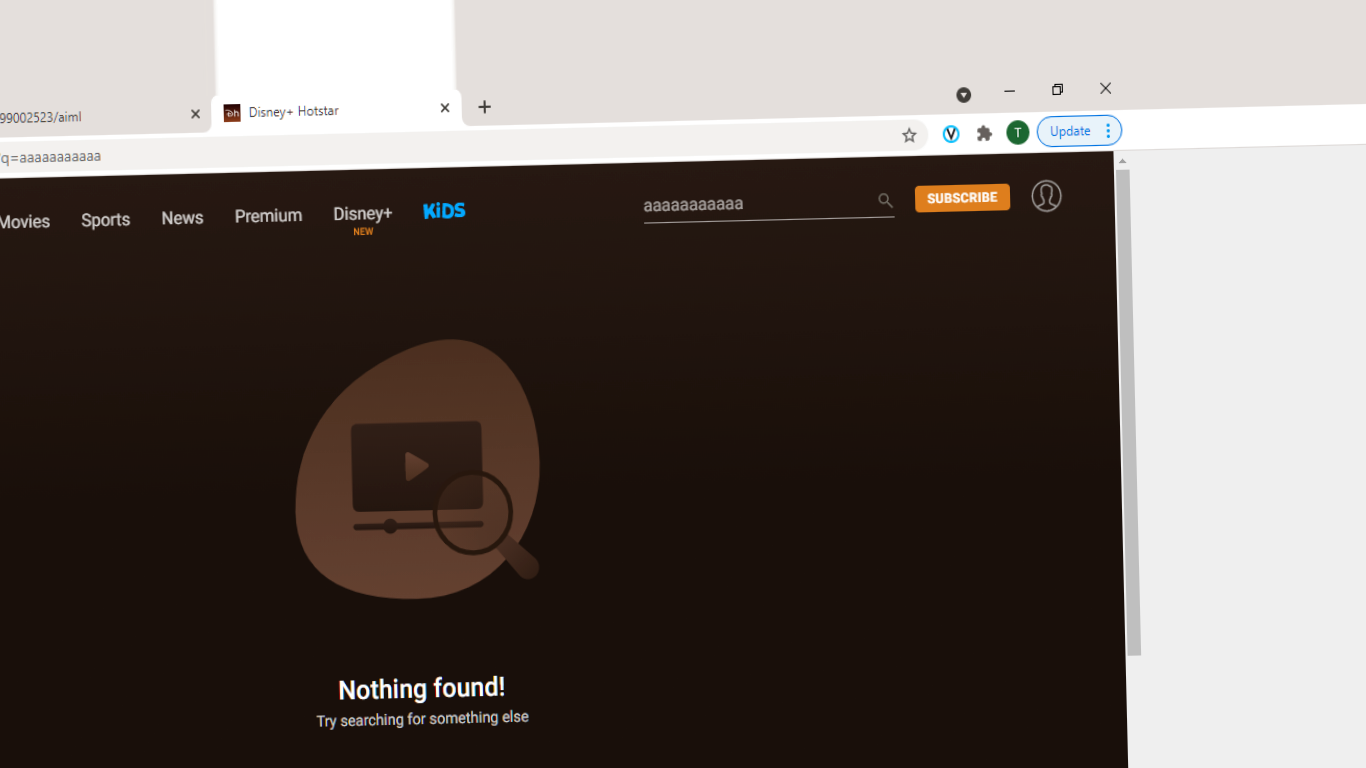profileicon: (1025, 174, 1074, 220)
searchicon: (874, 189, 901, 211)
searchtextbox: (631, 188, 896, 235)
